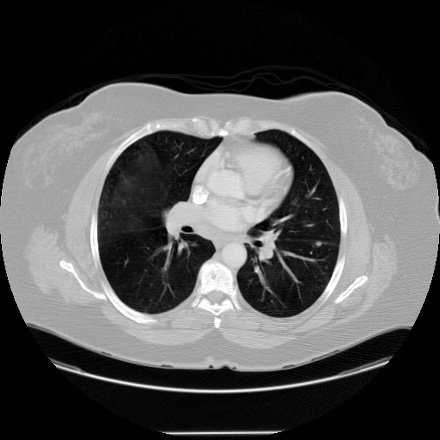PN: (315, 241, 321, 247)
